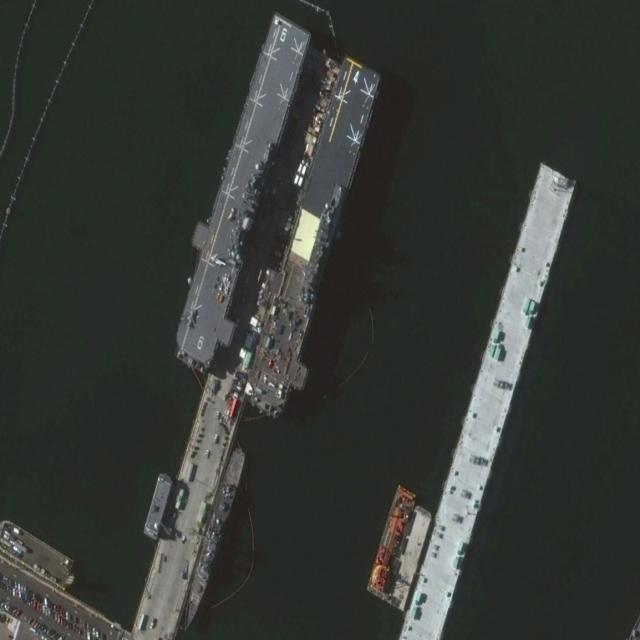Landing: (160, 5, 317, 384), (234, 45, 388, 428)
Other Ship: (176, 442, 249, 636)
